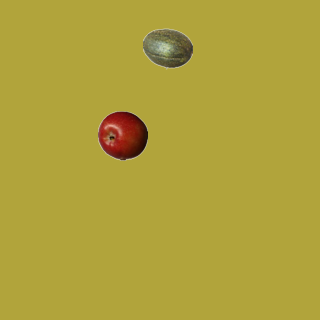Apple Braeburn: (97, 110, 147, 160)
Melon Piel de Sapo: (142, 23, 192, 73)
